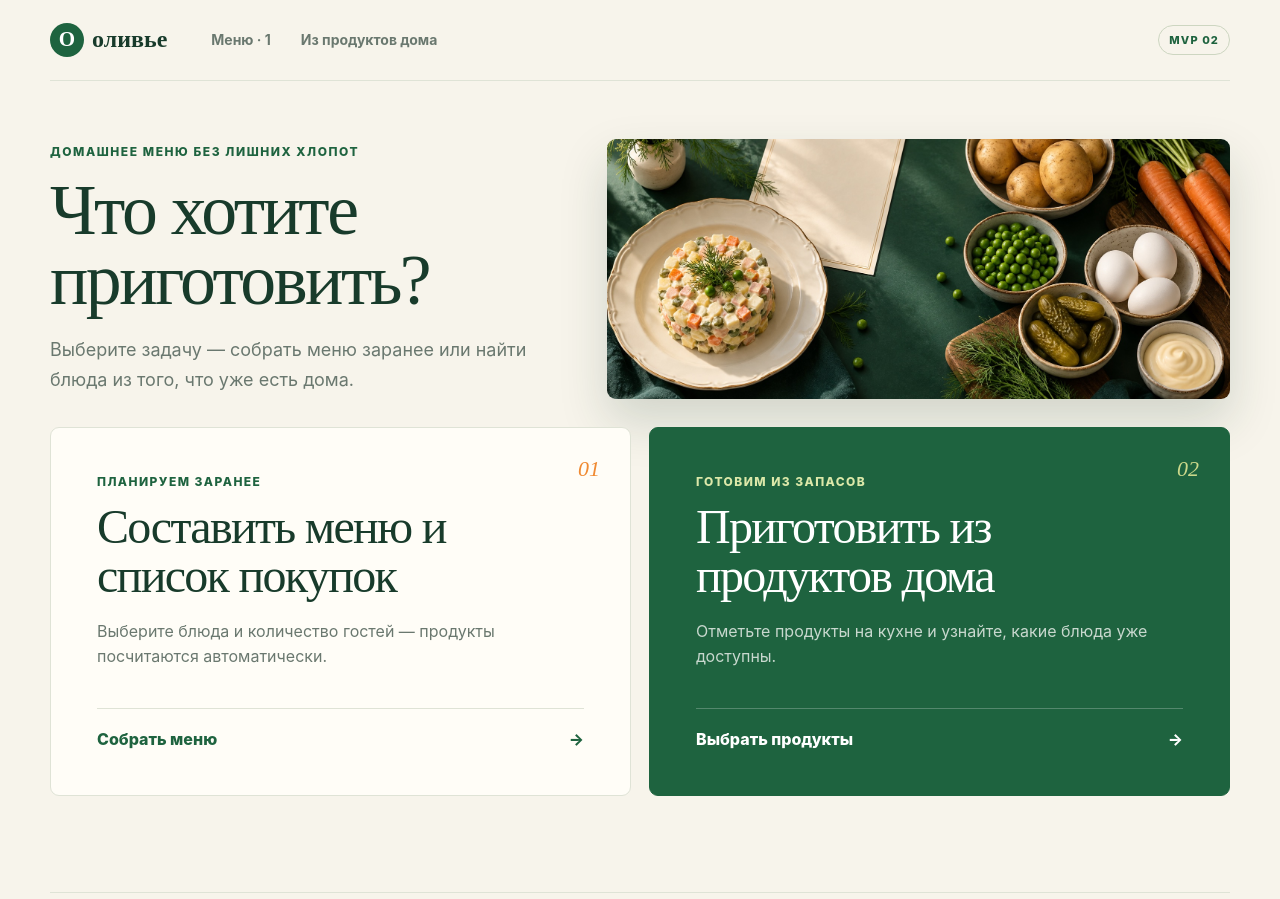
Scenario: App › переходит с главной в работающий конструктор меню
What coordinates should you click on to do the following:
click the link "Составить меню и список покупок"
I would click on:
 (340, 612)
Its box is [50,427,631,796].
(page scrolled)
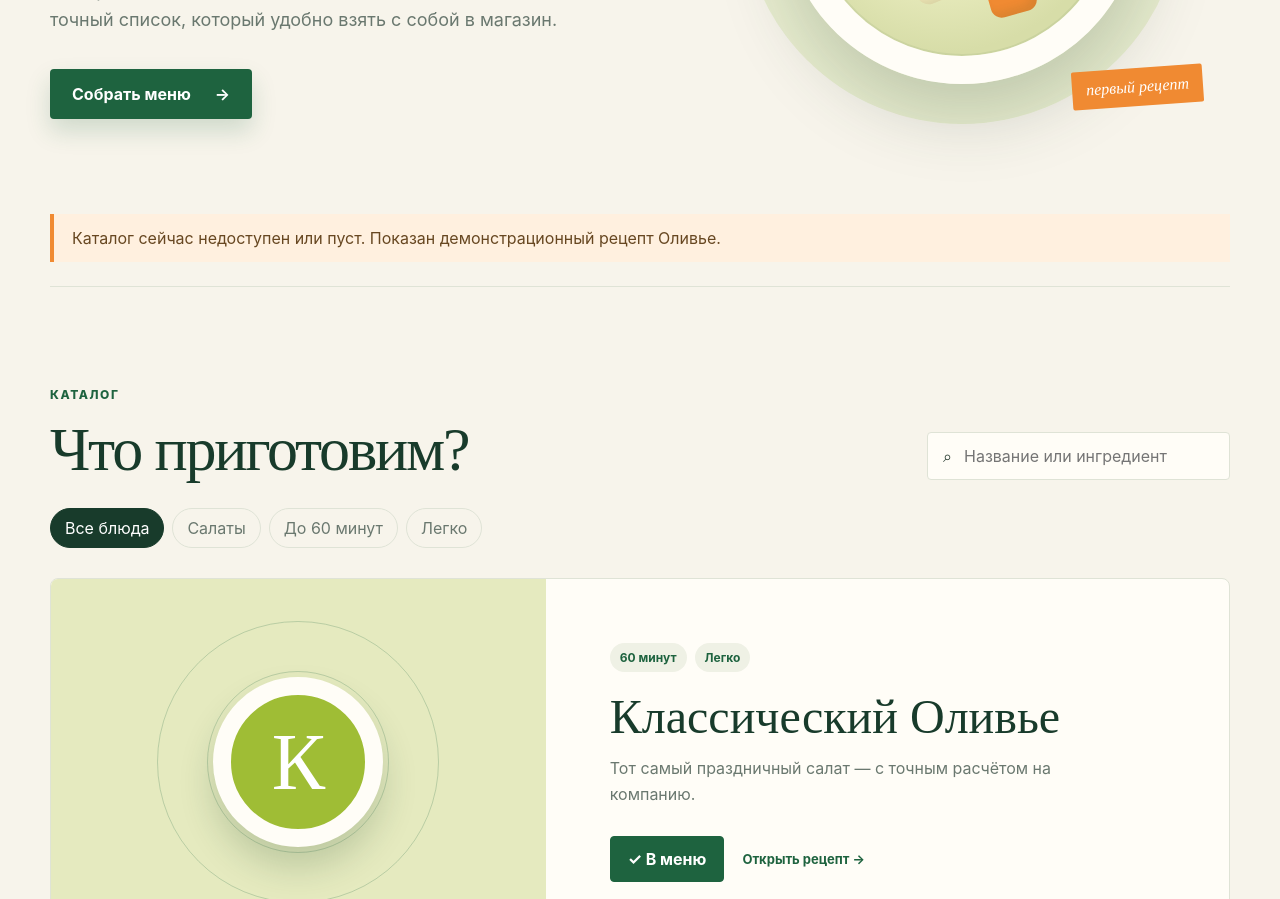
Now the search field with placeholder "Название или ингредиент" is shown, box [962,445,1214,467]
Now the heading "Что приготовим?" is shown, box [50,418,468,480]
